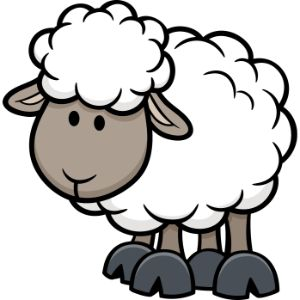sheep: (2, 1, 295, 297)
